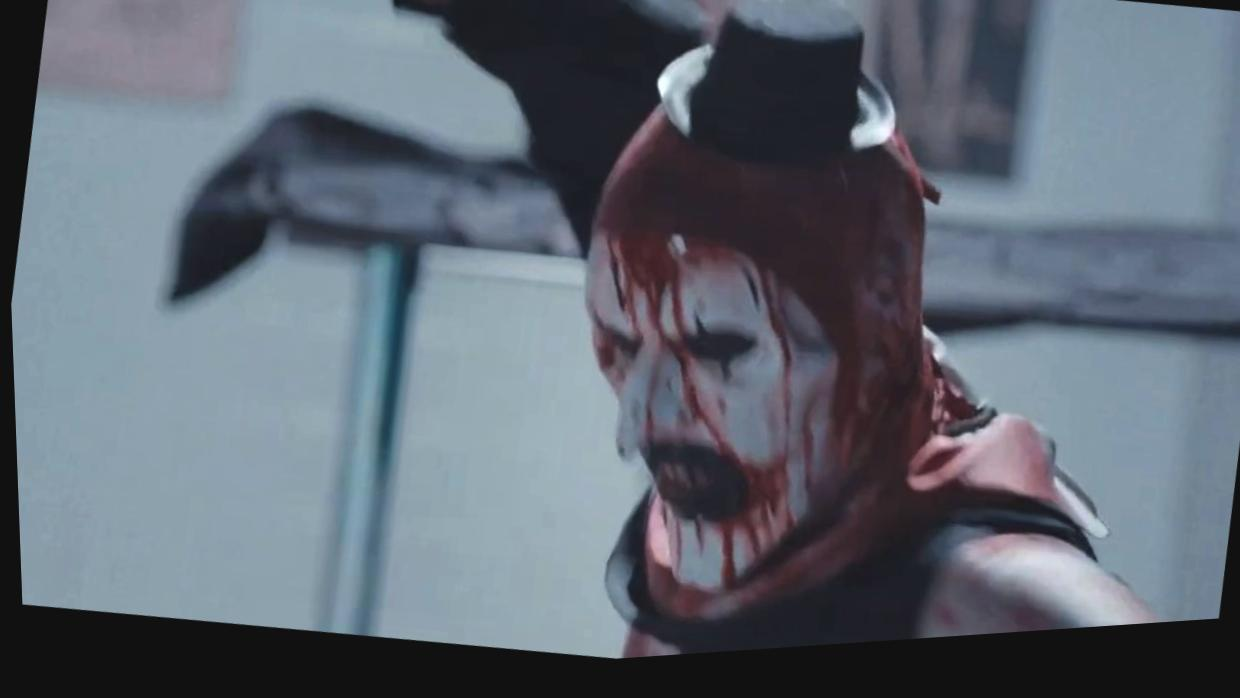Fire: (386, 0, 1155, 667)
